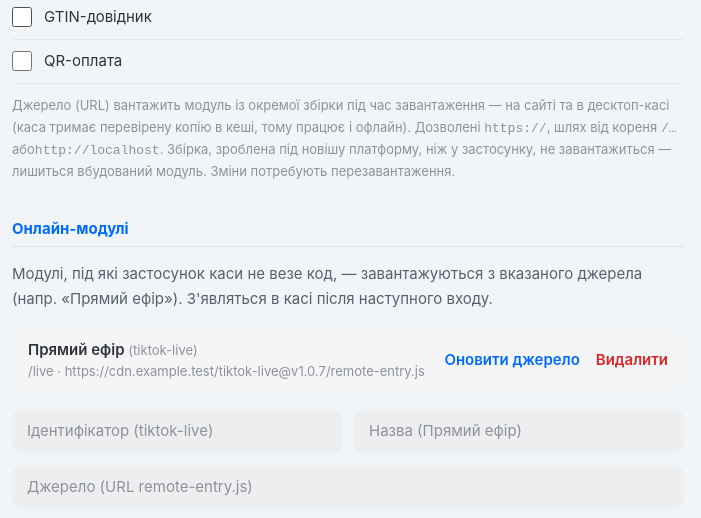
Test: Settings — repointing an online-only module › rejects a source URL the backend would not accept
(page scrolled)
Click the button "Оновити джерело": (512, 360) x1=444 y1=342 x2=580 y2=378
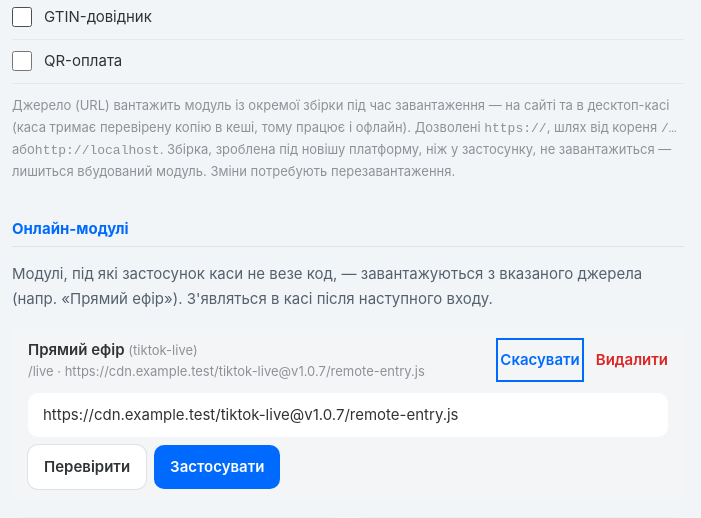
Replace the text in the field named "Джерело модуля tiktok-live" with "ftp://example.test/remote-entry.js": (348, 415) x1=28 y1=393 x2=668 y2=437
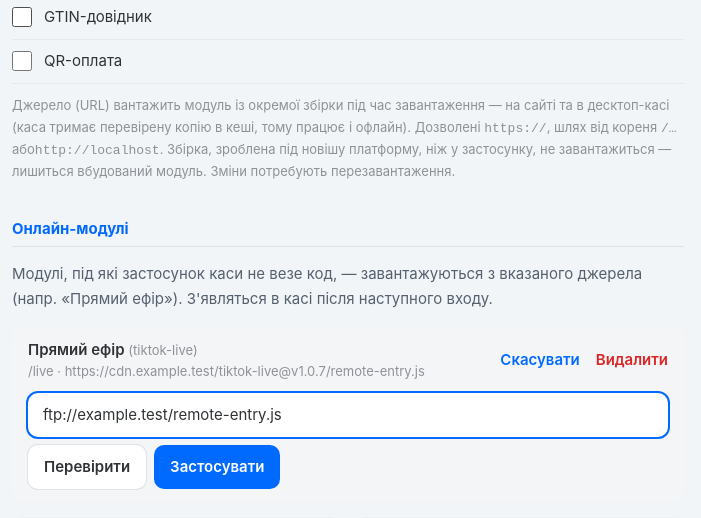
Click the button "Застосувати": (217, 467) x1=154 y1=445 x2=280 y2=489
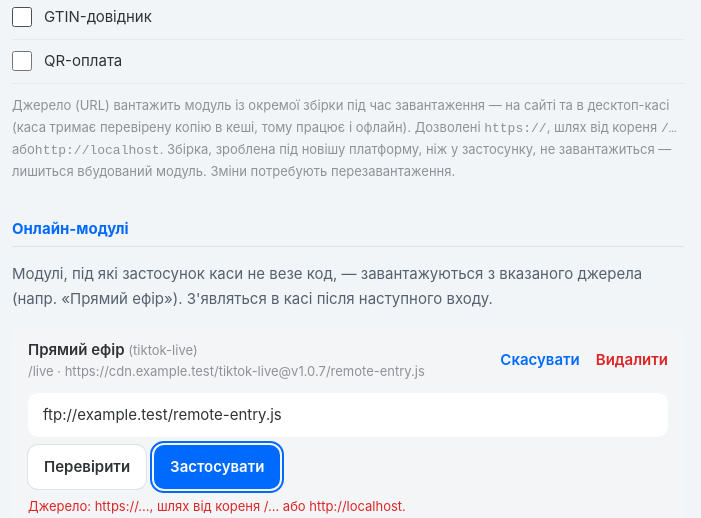
Expected: the text "Джерело: https://…, шлях від кореня /… або http://localhost." is shown, x1=28 y1=498 x2=406 y2=514
